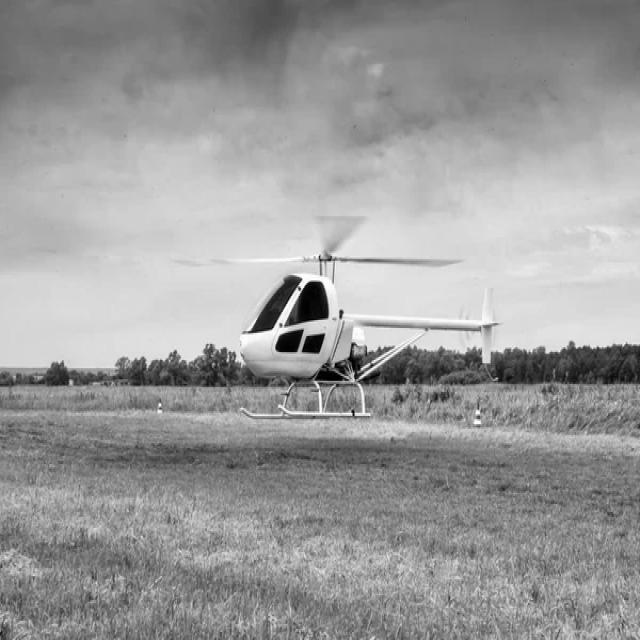Helicopter: (220, 216, 499, 419)
